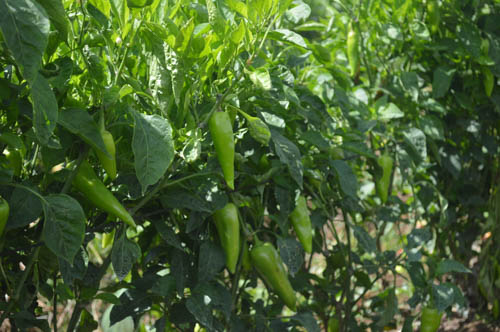ChiliPepper: (79, 173, 138, 227), (254, 242, 300, 310), (208, 113, 238, 189), (215, 206, 239, 273), (292, 193, 312, 251), (94, 136, 119, 178), (377, 155, 389, 198)
